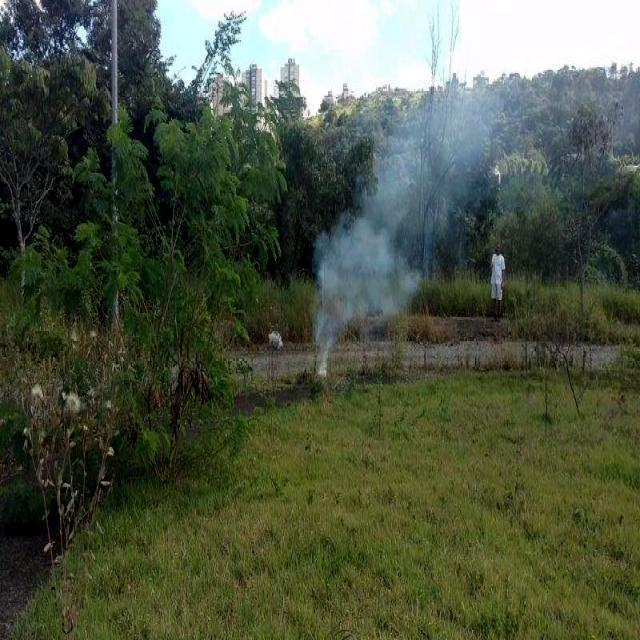Smoke: (303, 79, 493, 362)
